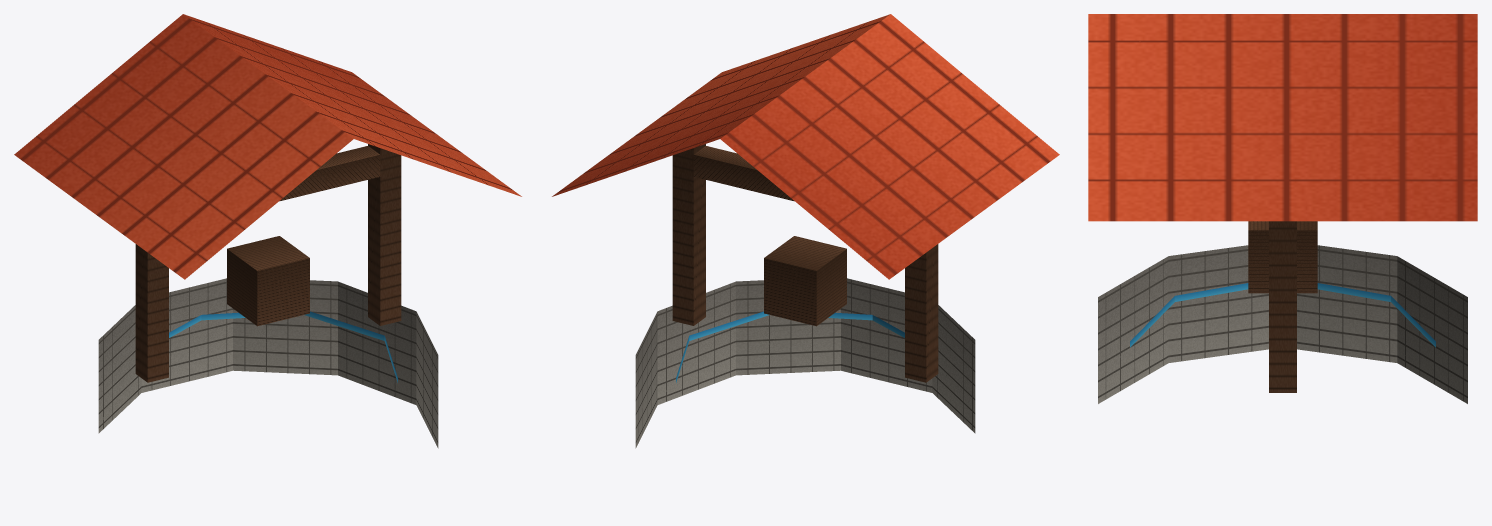
The model's file is village_well.gltf.
3 renders of one model, left to right at view 1: azimuth 30°, elevation 25°; view 2: azimuth 150°, elevation 25°; view 3: azimuth 270°, elevation 25°, orthographic. The views are drawn at different scales.
Parts seen in each view (by area): view 1: village_well; view 2: village_well; view 3: village_well.
Boxes of the visible parts, left/top/right/bottom form: village_well: left=14, top=14, right=521, bottom=448; village_well: left=552, top=14, right=1059, bottom=448; village_well: left=1088, top=14, right=1477, bottom=403.
Size of the model in its own units: 3.2 by 3.3 by 2.8.
1 material, 1 textured.
